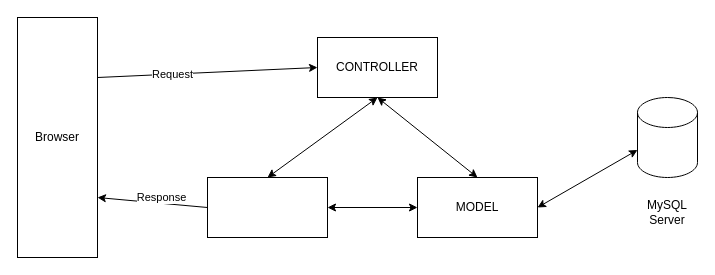
The diagram is 715 pixels wide and 275 high, and some of its shapes have lost their labels. Here are the shapes that lost their labels. From the top down, the centre of each, then its label:
At point (667, 137): "Data source".
At point (267, 207): "VIEW".
